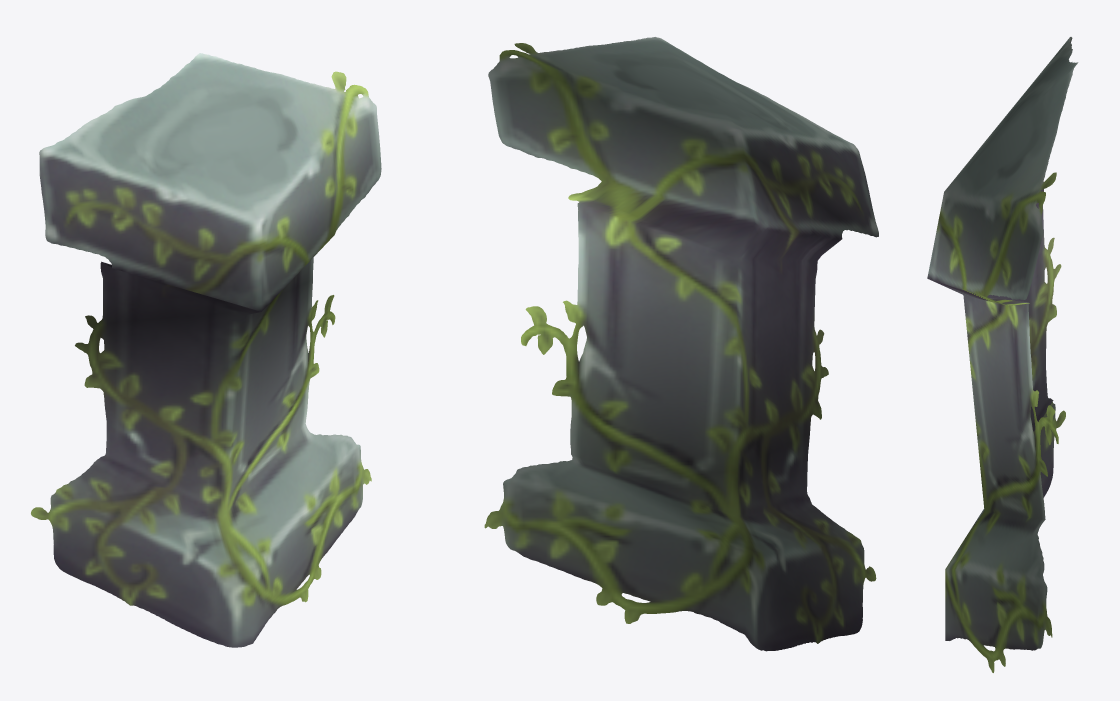
Rendered from Pedestal.FBX.
3 views of the same model, side by side, from view 1: azimuth 30°, elevation 25°; view 2: azimuth 150°, elevation 25°; view 3: azimuth 270°, elevation 25° (orthographic). The views are drawn at different scales.
Parts seen in each view (by area): view 1: Pedestal; view 2: Pedestal; view 3: Pedestal.
Part boxes in pixels (x1,y1,x2,y2): Pedestal: (31, 53, 381, 647); Pedestal: (484, 37, 878, 651); Pedestal: (927, 37, 1078, 672).
Size of the model in its own units: 167 by 62.52 by 255.
